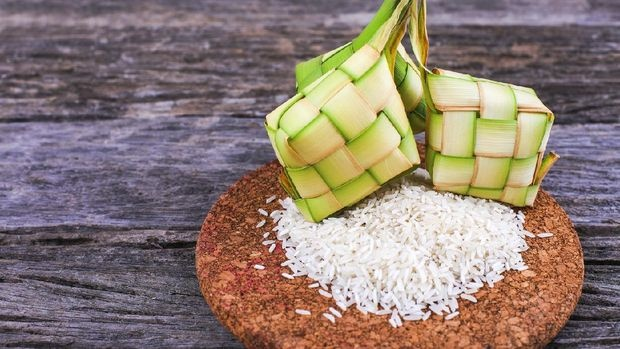ketupat: (265, 43, 422, 225), (420, 68, 555, 207)
